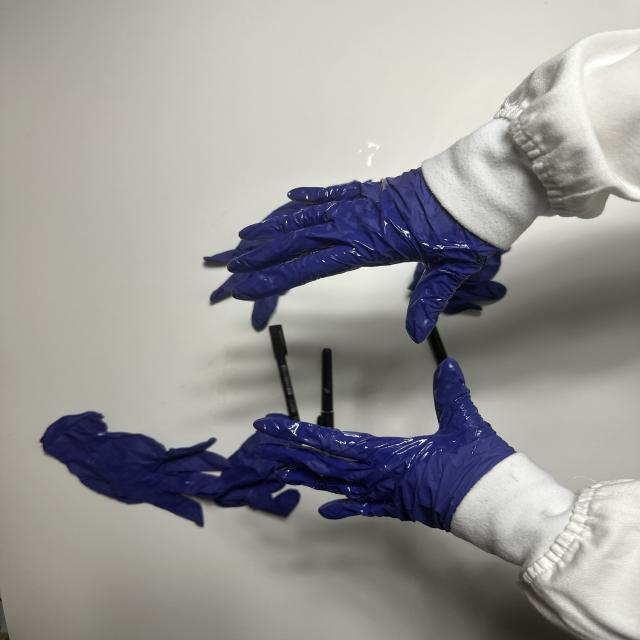gloves_contaminated: (229, 170, 498, 343), (254, 358, 515, 532)
